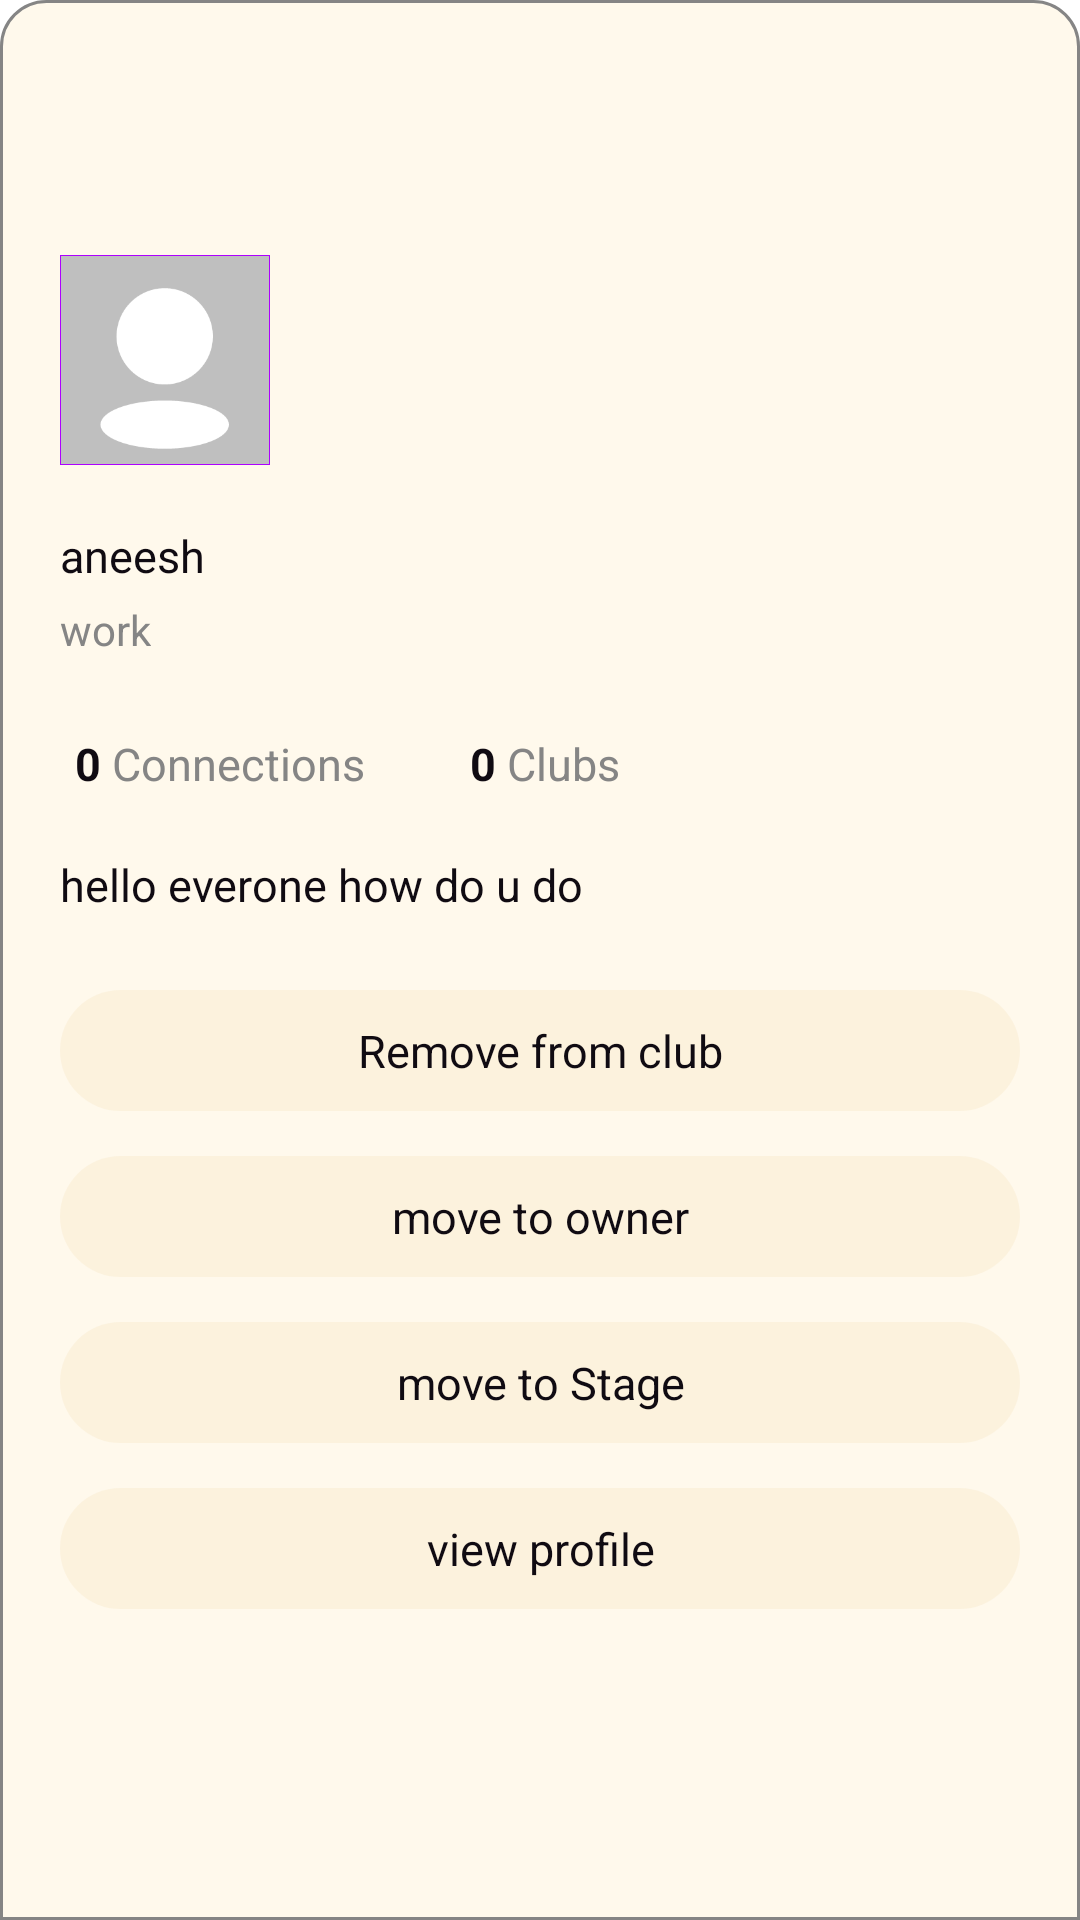

Where to tap for icons on this 1080px×1920px app screen, as (x,y):
user: (165,360)
